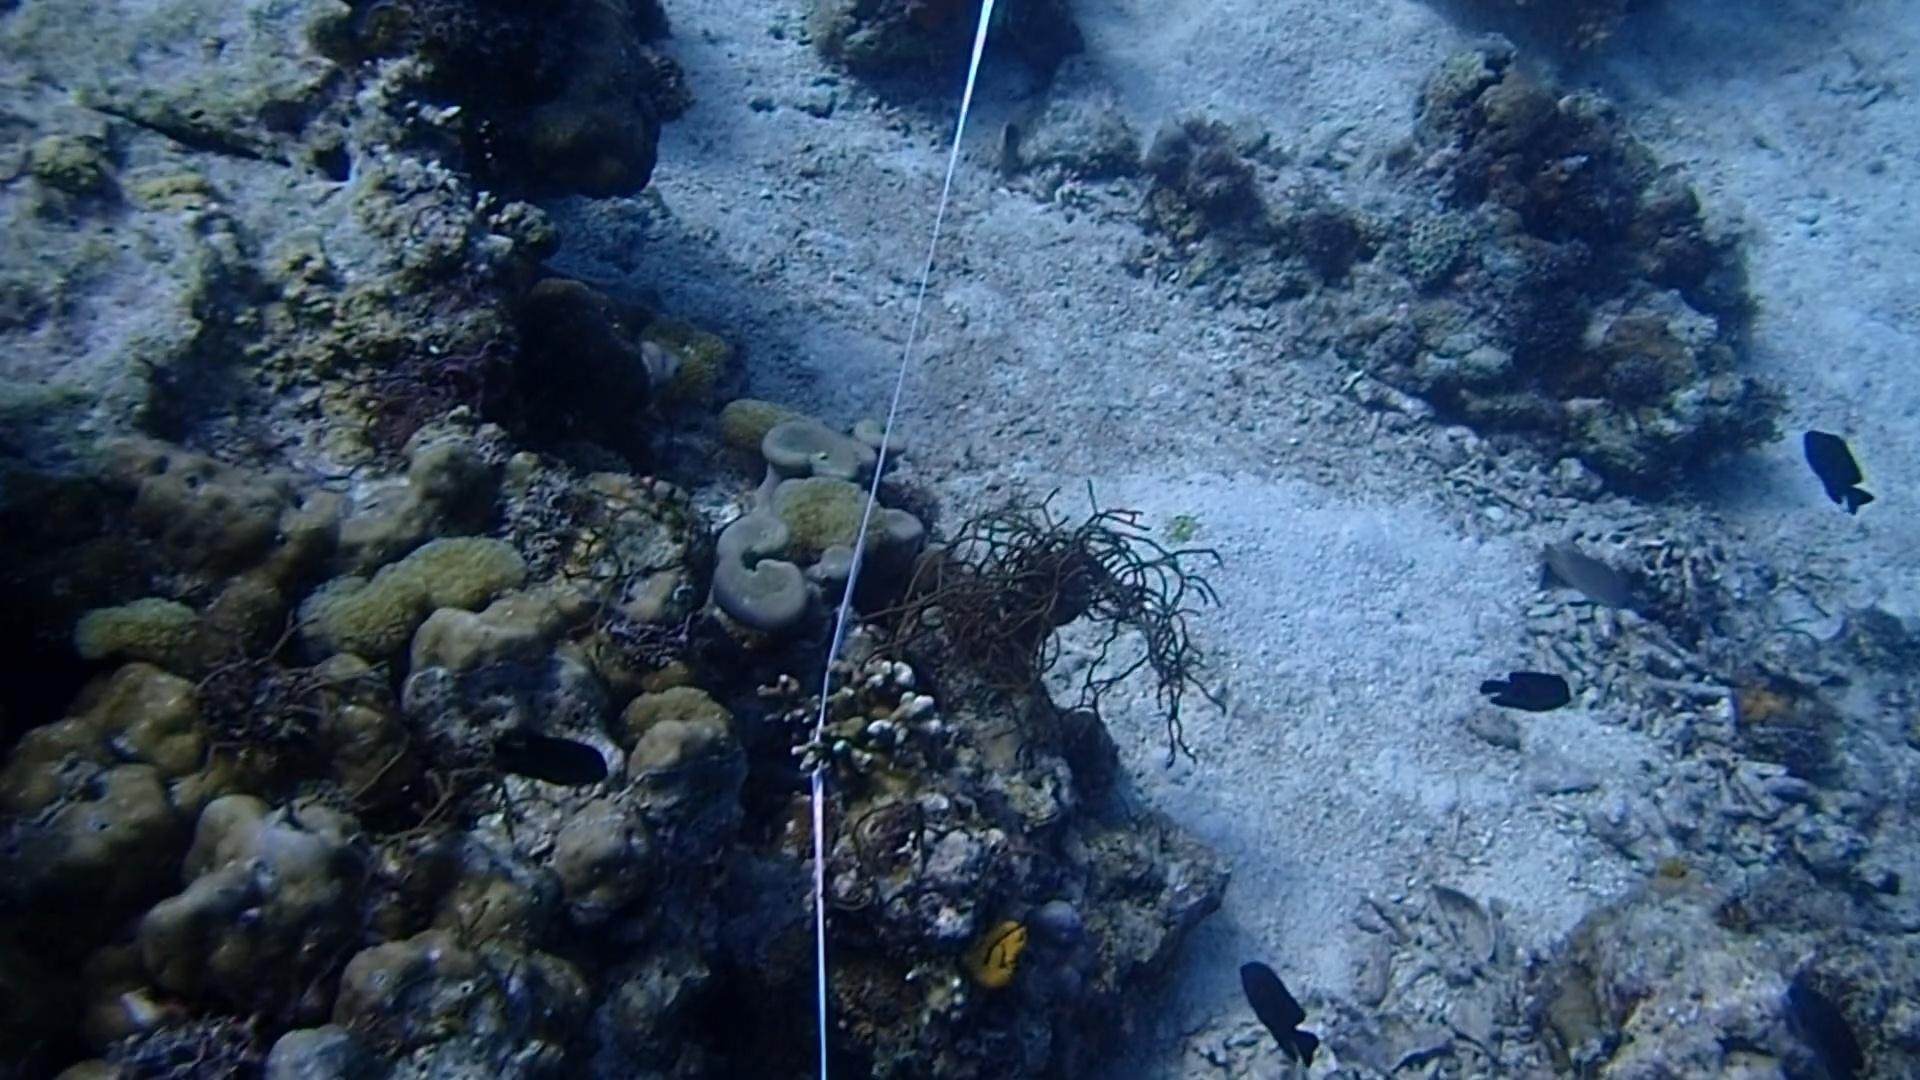Dark Fish: (1233, 951, 1328, 1073), (1787, 415, 1883, 526), (1460, 654, 1575, 727), (1780, 973, 1858, 1080)
Light Fish: (1535, 534, 1640, 628)
